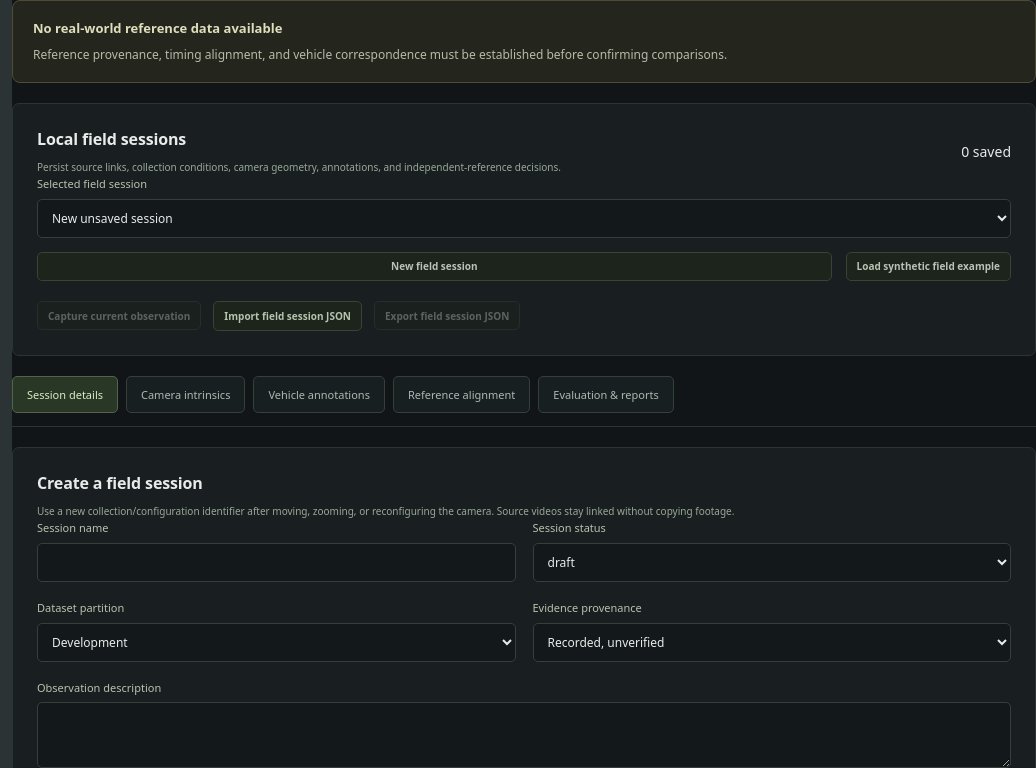
Test case: field session workspace › creates local metadata without inventing independent evidence
Expected: the button "New field session" is enabled, [37, 252, 832, 281]
Expected: the text "No real-world reference data available" is shown, [33, 19, 282, 37]
Type "Third-floor daylight" into the field labelled "Session name".
click(276, 563); type("Third-floor daylight")  # box [37, 543, 516, 582]
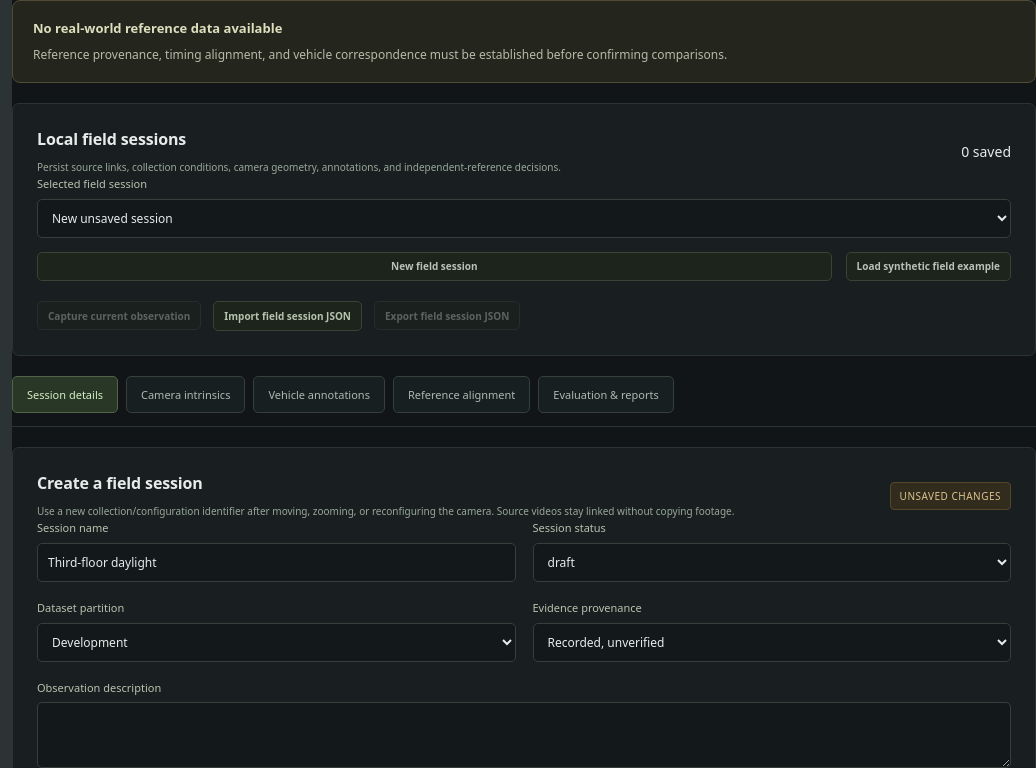
Select "Held-out evaluation" in the dropdown labelled "Dataset partition" at (276, 642), box [37, 623, 516, 662]
(page scrolled)
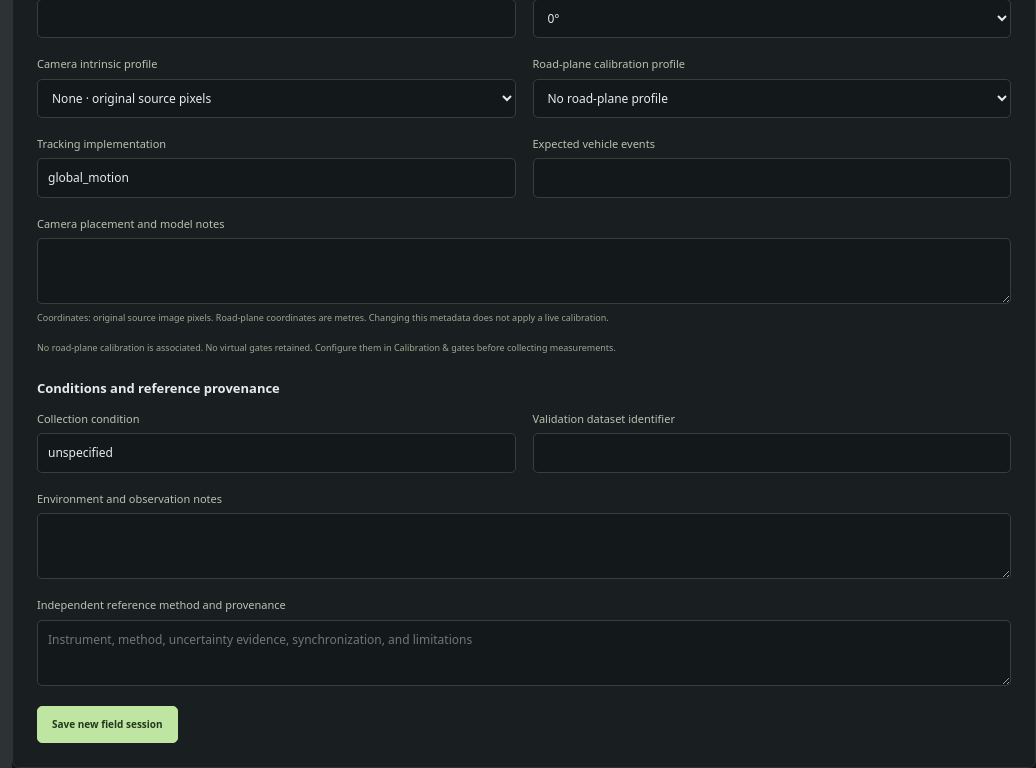
Click the button "Save new field session".
click(107, 724)  # box [37, 706, 178, 743]
(page scrolled)
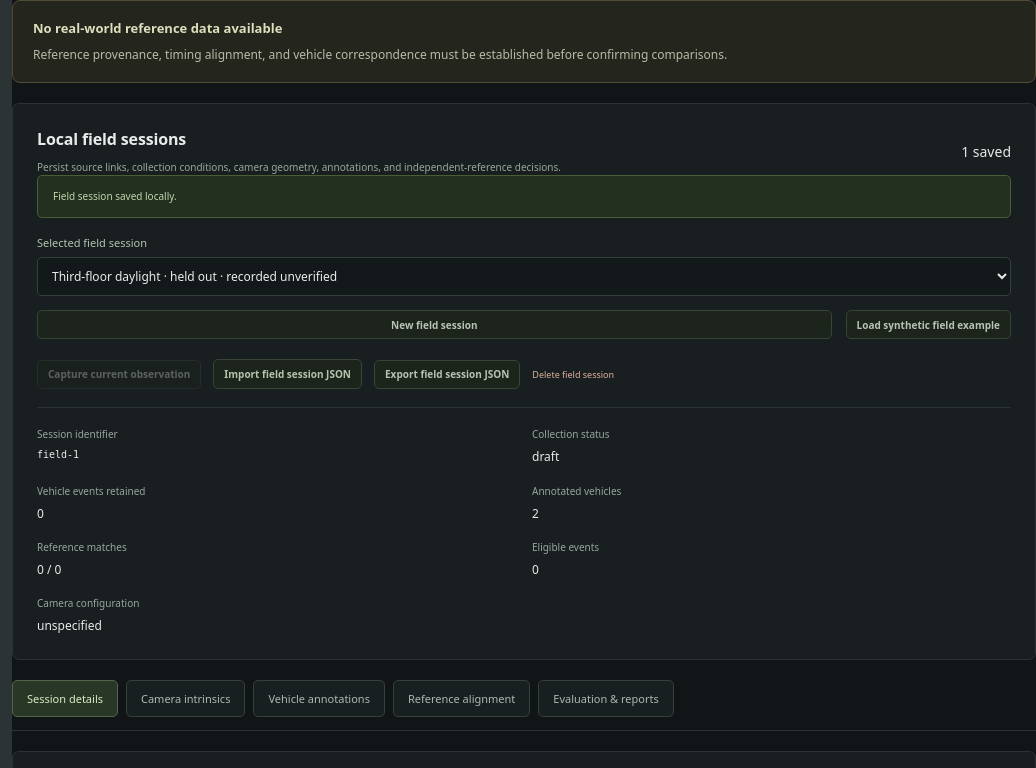
Expected: the text "No real-world reference data available" is shown, [33, 19, 282, 37]
Now the text "Field session saved locally." is shown, box [37, 175, 1011, 218]
